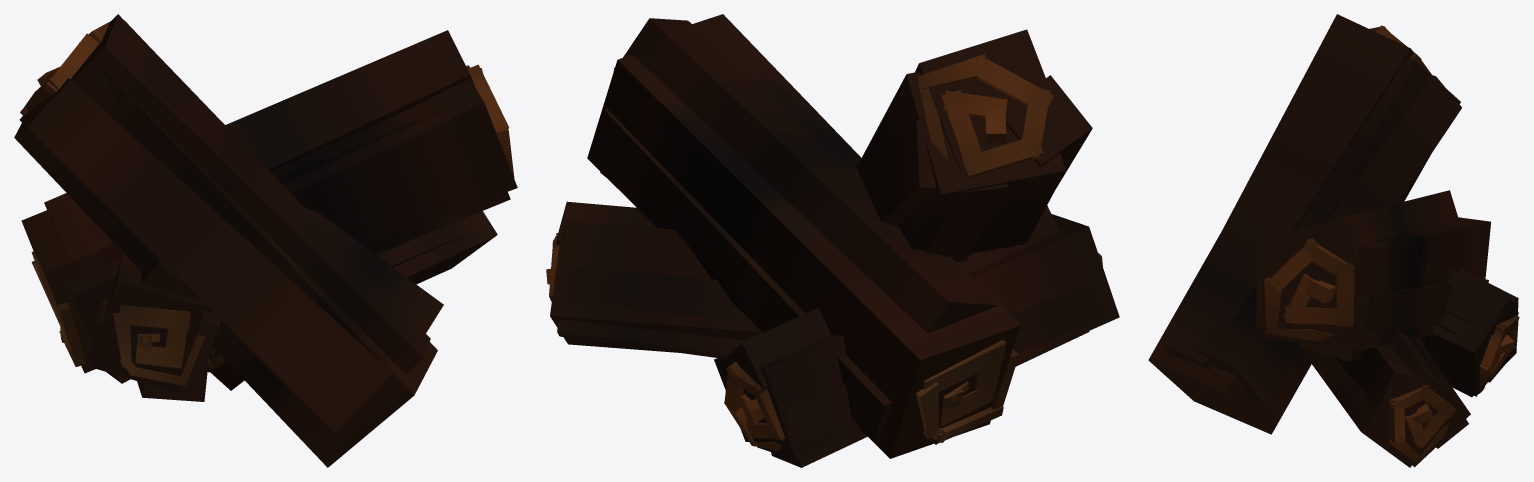
Rendered from tinder_01_quill.fbx.
3 renders of one model, left to right at view 1: azimuth 30°, elevation 25°; view 2: azimuth 150°, elevation 25°; view 3: azimuth 270°, elevation 25°, orthographic. The views are drawn at different scales.
Visible parts, largest first — view 1: Burnt-wood_01_quill; view 2: Burnt-wood_01_quill; view 3: Burnt-wood_01_quill.
Part boxes in pixels (x1,y1,x2,y2): Burnt-wood_01_quill: (14, 14, 517, 467); Burnt-wood_01_quill: (546, 14, 1119, 467); Burnt-wood_01_quill: (1148, 14, 1519, 467).
Bounding box in the file's own units: 0.8005 × 0.6394 × 0.6416.
